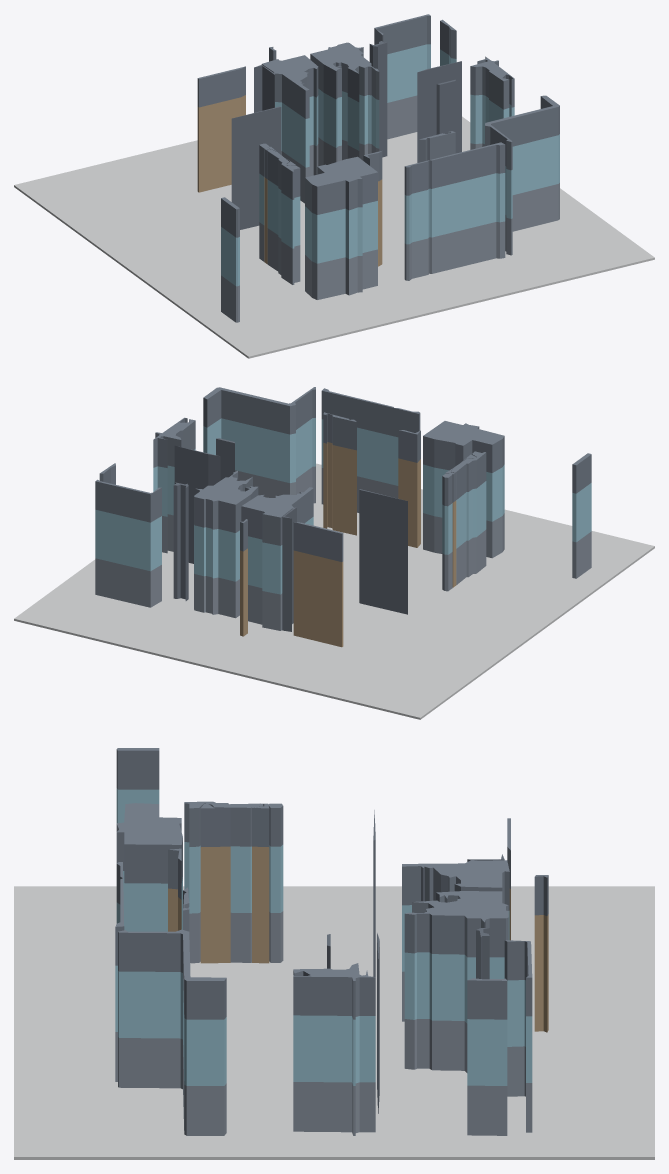
File: test_3bhk_run_v1.glb
3 views of the same model, one above another, from view 1: azimuth 30°, elevation 25°; view 2: azimuth 150°, elevation 25°; view 3: azimuth 270°, elevation 25° (orthographic). The views are drawn at different scales.
Parts seen in each view (by area): view 1: floor_slab, win_glass_012, wall_003, win_sill_012, win_glass_010, win_lintel_010, door_001, win_lintel_012, win_glass_002, win_lintel_002, win_glass_009, win_sill_010 (+24 smaller); view 2: floor_slab, wall_003, win_glass_009, door_001, win_lintel_009, win_glass_000, win_lintel_010, door_005, win_lintel_002, win_lintel_012, win_sill_000, win_lintel_003 (+28 smaller); view 3: floor_slab, win_glass_009, win_lintel_002, win_glass_006, win_sill_009, win_lintel_009, win_glass_002, win_lintel_010, win_sill_006, win_lintel_006, win_lintel_003, door_004 (+23 smaller).
Boxes of the visible parts, x1,y1,x2,y2 form: floor_slab: [14, 116, 654, 358]; win_glass_012: [404, 173, 505, 244]; wall_003: [231, 106, 281, 229]; win_sill_012: [404, 221, 505, 280]; win_glass_010: [305, 201, 377, 263]; win_lintel_010: [305, 156, 377, 214]; door_001: [197, 95, 245, 192]; win_lintel_012: [404, 142, 505, 195]; win_glass_002: [318, 88, 379, 150]; win_lintel_002: [310, 42, 379, 101]; win_glass_009: [505, 134, 559, 218]; win_sill_010: [305, 249, 377, 299]; floor_slab: [14, 463, 654, 719]; wall_003: [359, 489, 407, 614]; win_glass_009: [203, 418, 315, 482]; door_001: [293, 550, 343, 647]; win_lintel_009: [203, 387, 315, 434]; win_glass_000: [95, 509, 161, 571]; win_lintel_010: [423, 421, 504, 472]; door_005: [323, 442, 356, 535]; win_lintel_002: [194, 470, 258, 532]; win_lintel_012: [321, 388, 420, 437]; win_sill_000: [95, 558, 161, 607]; win_lintel_003: [241, 487, 313, 545]; floor_slab: [14, 886, 654, 1159]; win_glass_009: [118, 971, 226, 1085]; win_lintel_002: [404, 891, 508, 957]; win_glass_006: [293, 1015, 375, 1085]; win_sill_009: [118, 1037, 226, 1135]; win_lintel_009: [118, 929, 226, 1019]; win_glass_002: [404, 952, 504, 1023]; win_lintel_010: [116, 803, 182, 883]; win_sill_006: [293, 1082, 375, 1135]; win_lintel_006: [293, 963, 375, 1019]; win_lintel_003: [402, 860, 509, 910]; door_004: [200, 846, 230, 963].
Bounding box in the file's own units: 10.49 × 2.85 × 10.49.
